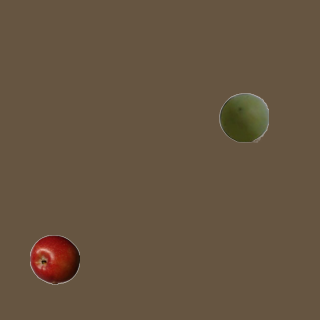Apple Braeburn: (29, 234, 79, 284)
Grape White 4: (218, 92, 268, 142)
